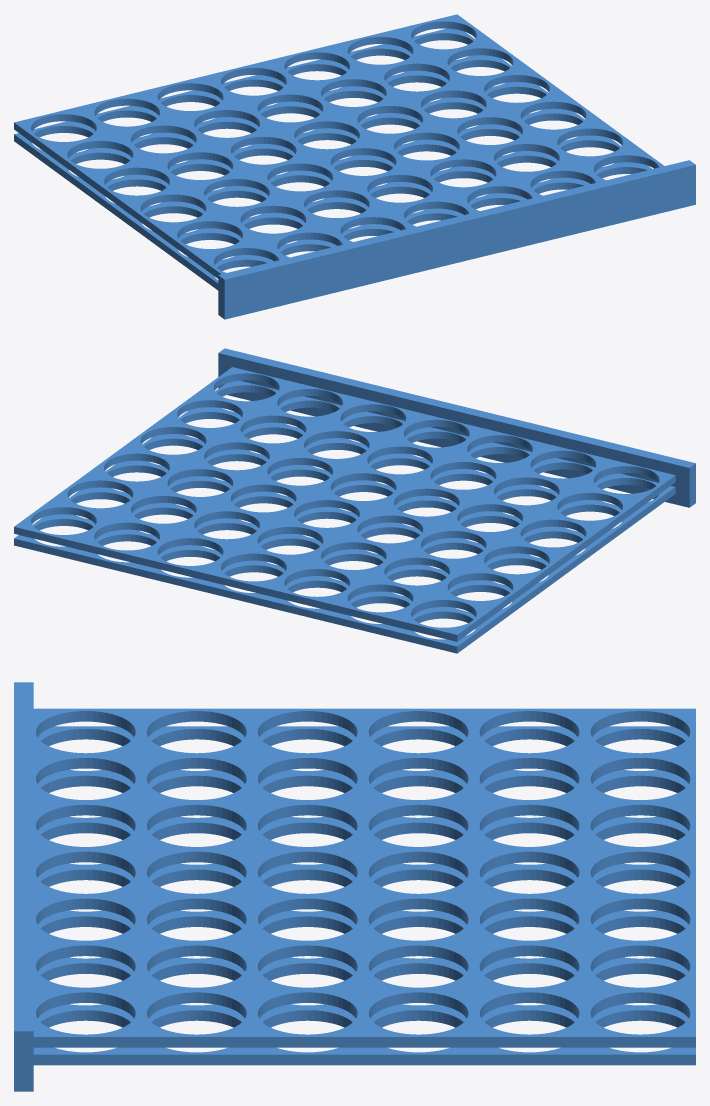
Rendered from board.glb.
3 renders of one model, top to bottom at view 1: azimuth 30°, elevation 25°; view 2: azimuth 150°, elevation 25°; view 3: azimuth 270°, elevation 25°, orthographic. The views are drawn at different scales.
Parts seen in each view (by area): view 1: Cube.001; view 2: Cube.001; view 3: Cube.001.
Part boxes in pixels (<box>): Cube.001: <box>14,14,695,319</box>; Cube.001: <box>14,348,695,653</box>; Cube.001: <box>14,682,695,1091</box>.
Size of the model in its own units: 0.21 by 0.017 by 0.1735.
